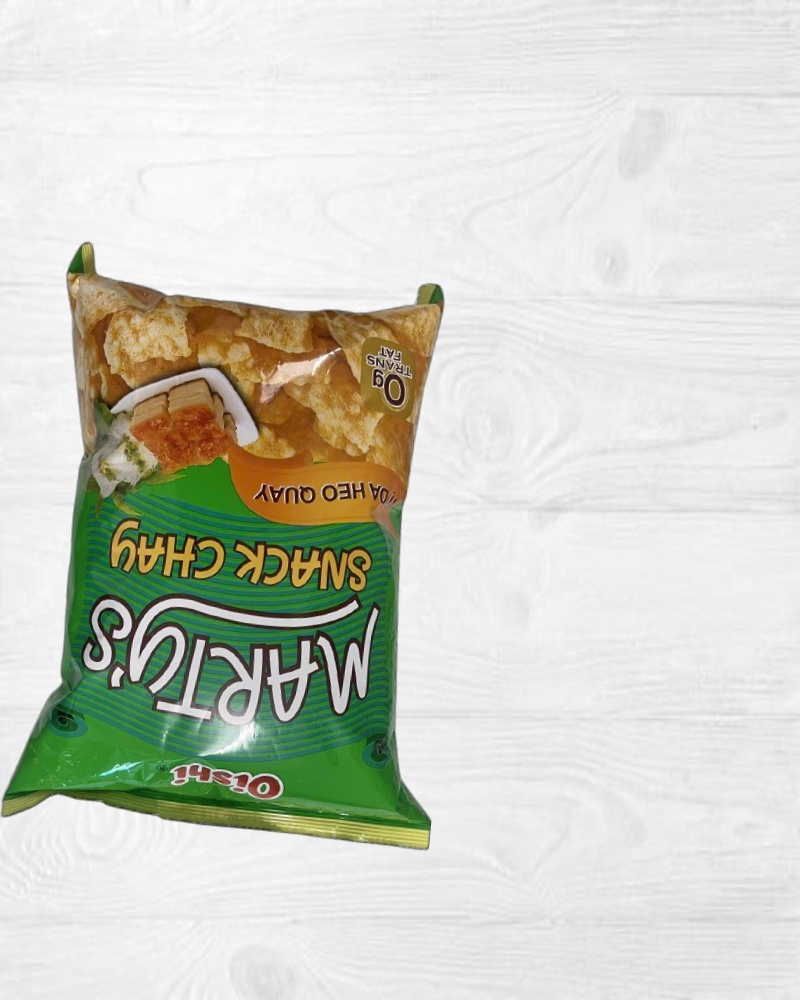Snack chay: (22, 243, 478, 855)
